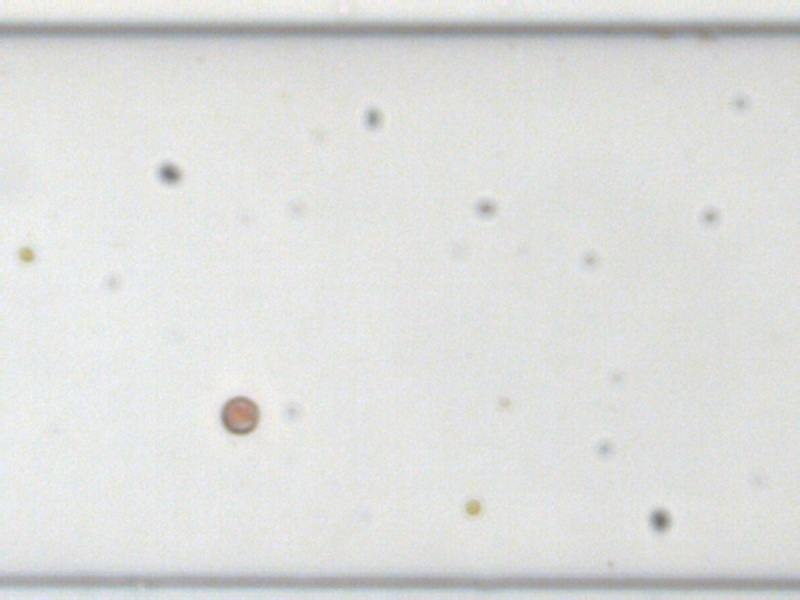Chlorella: (461, 497, 480, 516), (17, 245, 33, 261)
Porphyridium: (216, 394, 261, 435)
